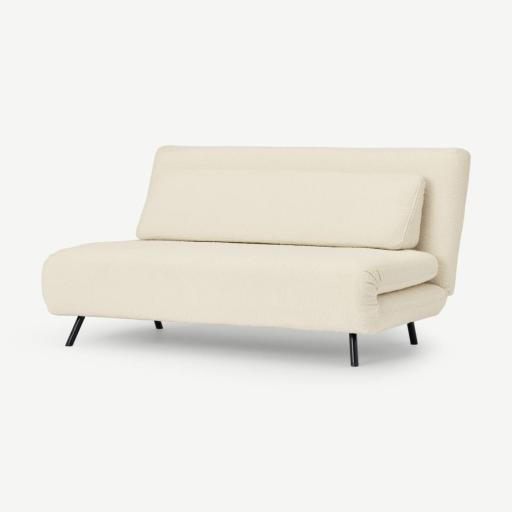back_cushion: (137, 156, 423, 250)
legs: (66, 317, 83, 346), (349, 333, 357, 366), (407, 323, 416, 344), (155, 322, 161, 328)
seat_cushion: (43, 241, 446, 334)
two-seater: (0, 0, 511, 512)
